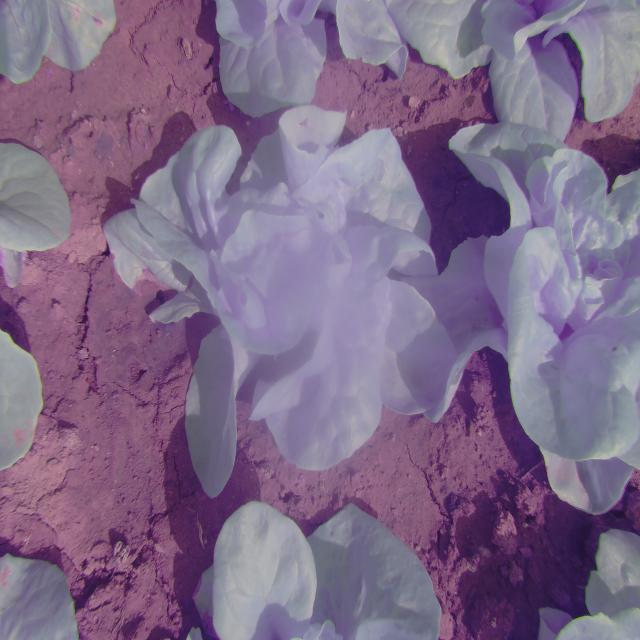vege: (107, 106, 449, 494)
